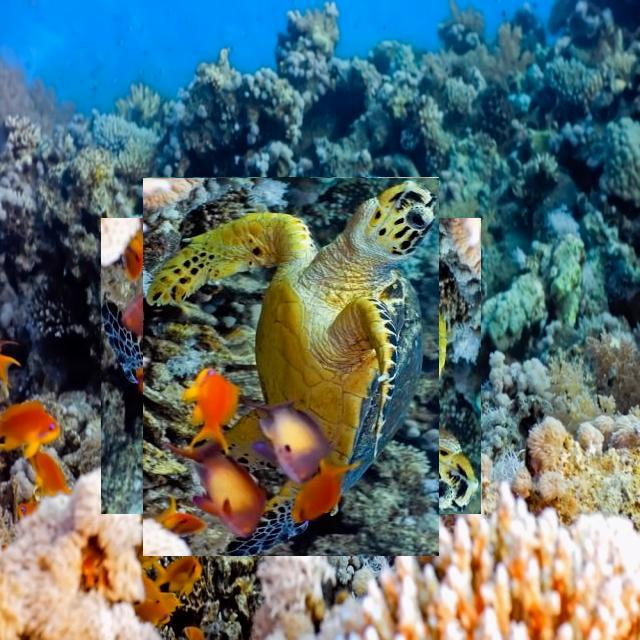Sea turtle: (122, 198, 460, 536)
